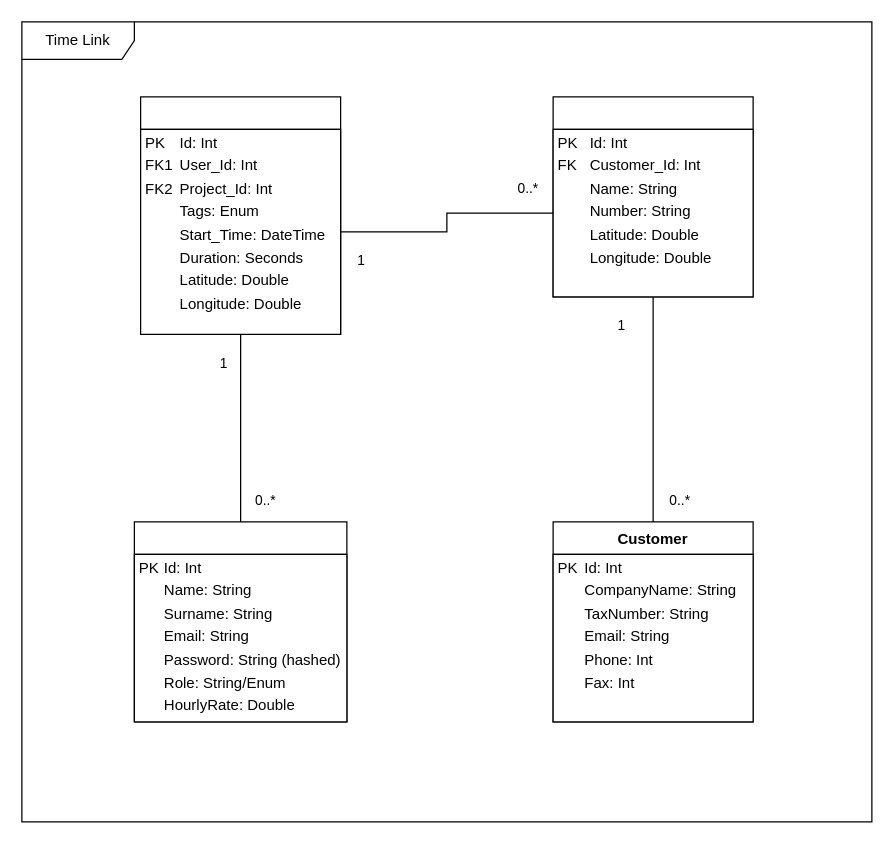
Image size: 894x844. Some labels were removed from this diagram. Here are the shapes that lost their labels. From the top down, the box of each, then its label:
(139, 96, 341, 334): Timestamps
(552, 96, 753, 297): Project (WorkSite)
(133, 521, 347, 722): User
